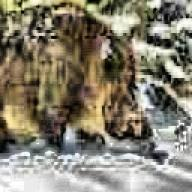boar: (0, 0, 156, 154)
